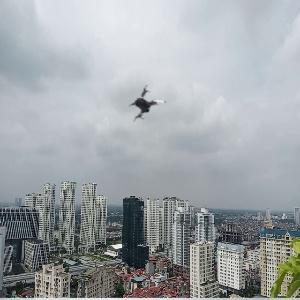drone: (126, 84, 173, 131)
